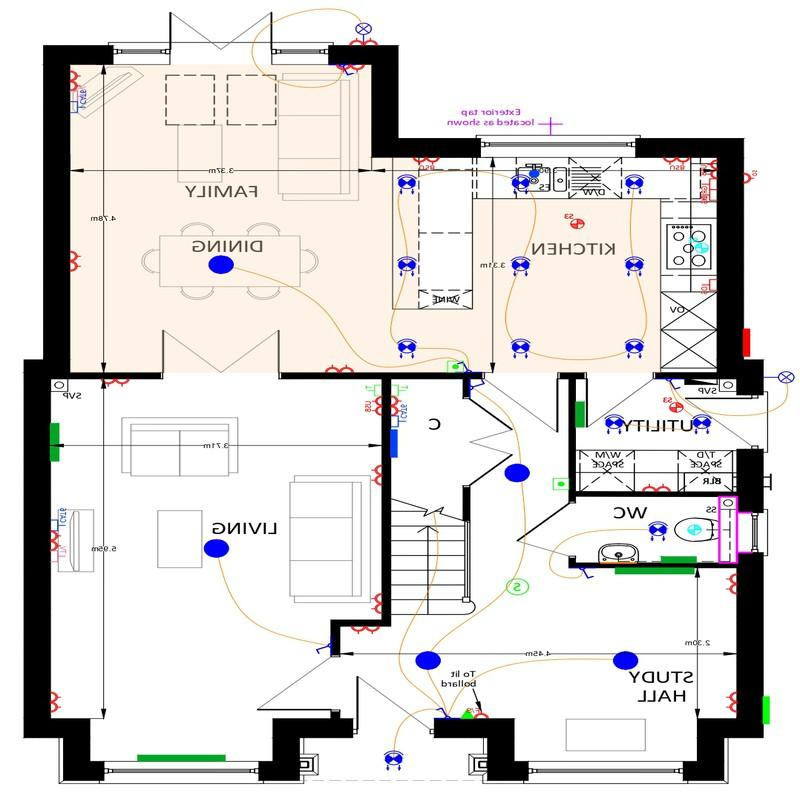BT Entry Point: (458, 708, 475, 721)
Cat 6 Data Socket: (390, 412, 417, 428), (67, 100, 91, 116), (49, 515, 70, 531)
Ceiling Mounted Continuous Extract Fan With Boost Mode Activated By Light Switch: (683, 519, 705, 542)
Ceiling Mounted Continuous Extract Fan With Local Boost Switch: (657, 394, 691, 422), (561, 206, 588, 240)
Co-Ax TV Socket: (49, 548, 70, 568), (67, 89, 91, 101)
Consumer Unit: (683, 373, 724, 392)
Double Socket: (717, 679, 738, 724), (361, 586, 384, 623), (365, 452, 384, 495), (320, 359, 362, 375), (99, 374, 131, 394), (48, 530, 75, 553), (388, 394, 417, 413), (49, 691, 70, 716), (331, 63, 368, 77), (69, 244, 85, 275), (67, 66, 88, 89), (345, 623, 382, 636), (727, 569, 744, 597), (350, 33, 379, 46), (638, 483, 675, 493)
Electric Meter Box: (742, 322, 760, 360), (743, 168, 763, 193)
External Wall Light: (765, 365, 796, 389), (354, 16, 372, 45)
Fused spur: (474, 704, 489, 719)
Gas Meter Box: (760, 688, 775, 729)
Grid Switch: (699, 179, 717, 189)
Hob Switch: (696, 188, 718, 207)
Light Switch: (573, 562, 596, 589), (469, 375, 489, 399), (431, 700, 456, 719), (313, 637, 333, 658), (662, 378, 684, 395), (455, 358, 475, 375), (340, 63, 356, 79)
Low Energy Downlighter: (505, 334, 544, 373), (618, 329, 648, 370), (643, 512, 674, 547), (374, 744, 412, 772), (619, 167, 645, 205), (391, 332, 421, 364), (689, 409, 721, 439), (391, 250, 423, 279), (391, 171, 421, 200), (507, 252, 535, 281), (602, 410, 632, 437), (622, 248, 646, 281), (508, 170, 533, 201)
Low Energy Pendant Light: (197, 531, 238, 564), (610, 642, 644, 673), (415, 642, 444, 676), (202, 251, 243, 275), (503, 458, 534, 489)
Mains Wired Smoke Detector: (500, 573, 530, 598)
Outside Tap: (536, 114, 566, 134)
Oven Switch: (700, 276, 718, 299)
Programmable Room Thermostat: (549, 473, 570, 500), (442, 353, 466, 375)
Radiator: (126, 747, 232, 768), (611, 563, 699, 584), (50, 421, 70, 467), (570, 394, 593, 432), (657, 552, 700, 563)
Recirculating Extractor Fan: (688, 230, 709, 261)
Telephone Socket: (390, 380, 418, 399), (360, 380, 386, 394)
USB Double Socket: (659, 151, 692, 173), (406, 157, 448, 174), (362, 395, 386, 418), (700, 158, 721, 179)
Underfloor Heating Manifold: (386, 426, 407, 458)
Water Entry Position: (527, 158, 546, 181)
